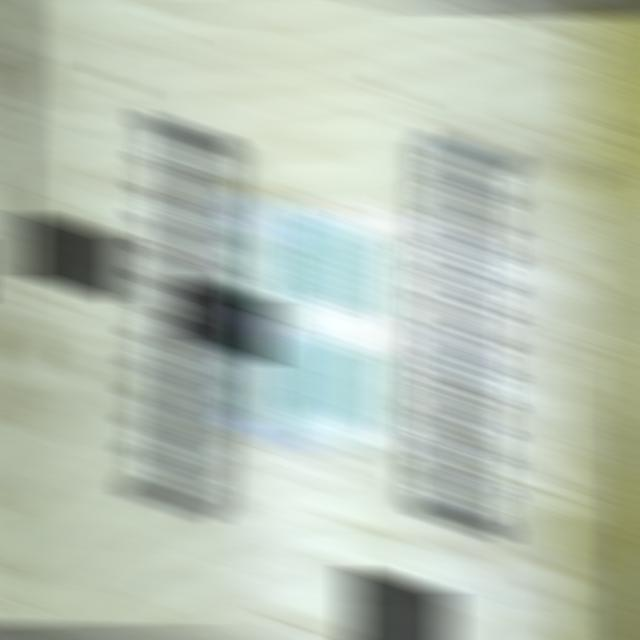Flathead_Block: (133, 117, 221, 514)
Phillips_Block: (425, 137, 512, 534)
Terminal_1: (244, 233, 288, 322), (242, 338, 283, 426)
Terminal_2: (315, 341, 356, 425), (339, 341, 380, 425), (295, 223, 336, 306), (318, 223, 359, 306), (291, 341, 332, 424)
